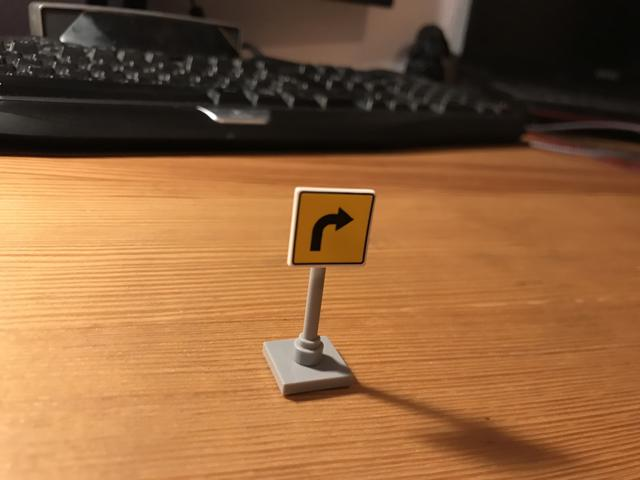fahrtrichtung rechts: (288, 185, 377, 270)
